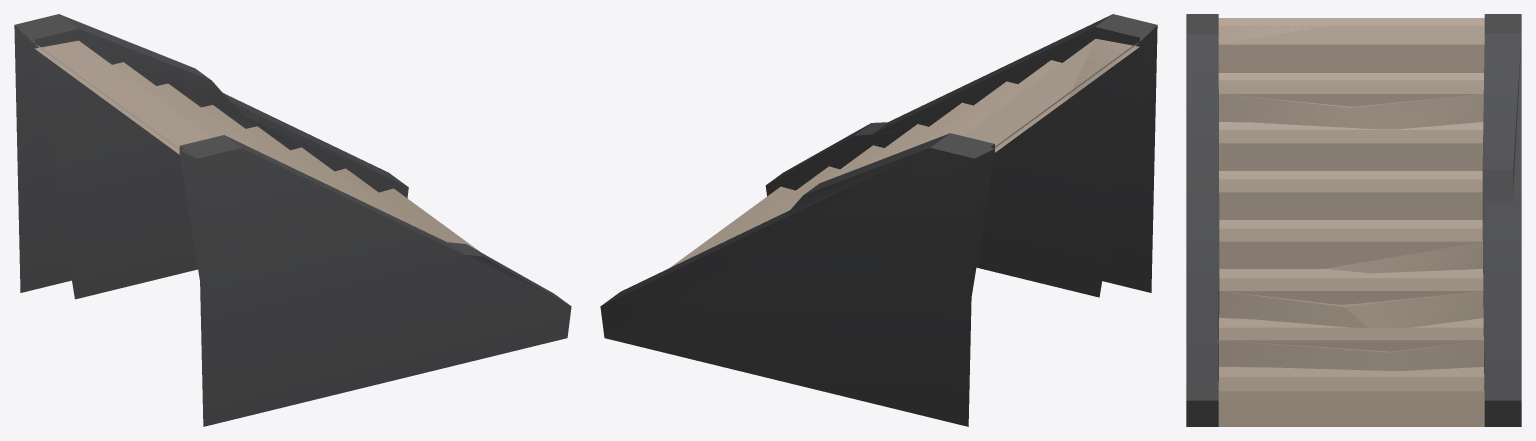
File: Fort Stairs 01.fbx
3 renders of one model, left to right at view 1: azimuth 30°, elevation 25°; view 2: azimuth 150°, elevation 25°; view 3: azimuth 270°, elevation 25°, orthographic. The views are drawn at different scales.
Visible parts, largest first — view 1: Fort Stairs 01, Fort Stairs 01 high; view 2: Fort Stairs 01 high, Fort Stairs 01; view 3: Fort Stairs 01, Fort Stairs 01 high, Fort Stairs 01 low.
Part boxes in pixels (x1,y1,x2,y2): Fort Stairs 01: [18, 25, 570, 426]; Fort Stairs 01 high: [14, 14, 571, 426]; Fort Stairs 01 high: [605, 14, 1157, 426]; Fort Stairs 01: [600, 14, 1157, 425]; Fort Stairs 01: [1186, 14, 1521, 426]; Fort Stairs 01 high: [1186, 14, 1521, 426]; Fort Stairs 01 low: [1218, 18, 1484, 376].
Size of the model in its own units: 3.82 by 2.63 by 3.23.
Materials: 1 (1 with a texture image).
